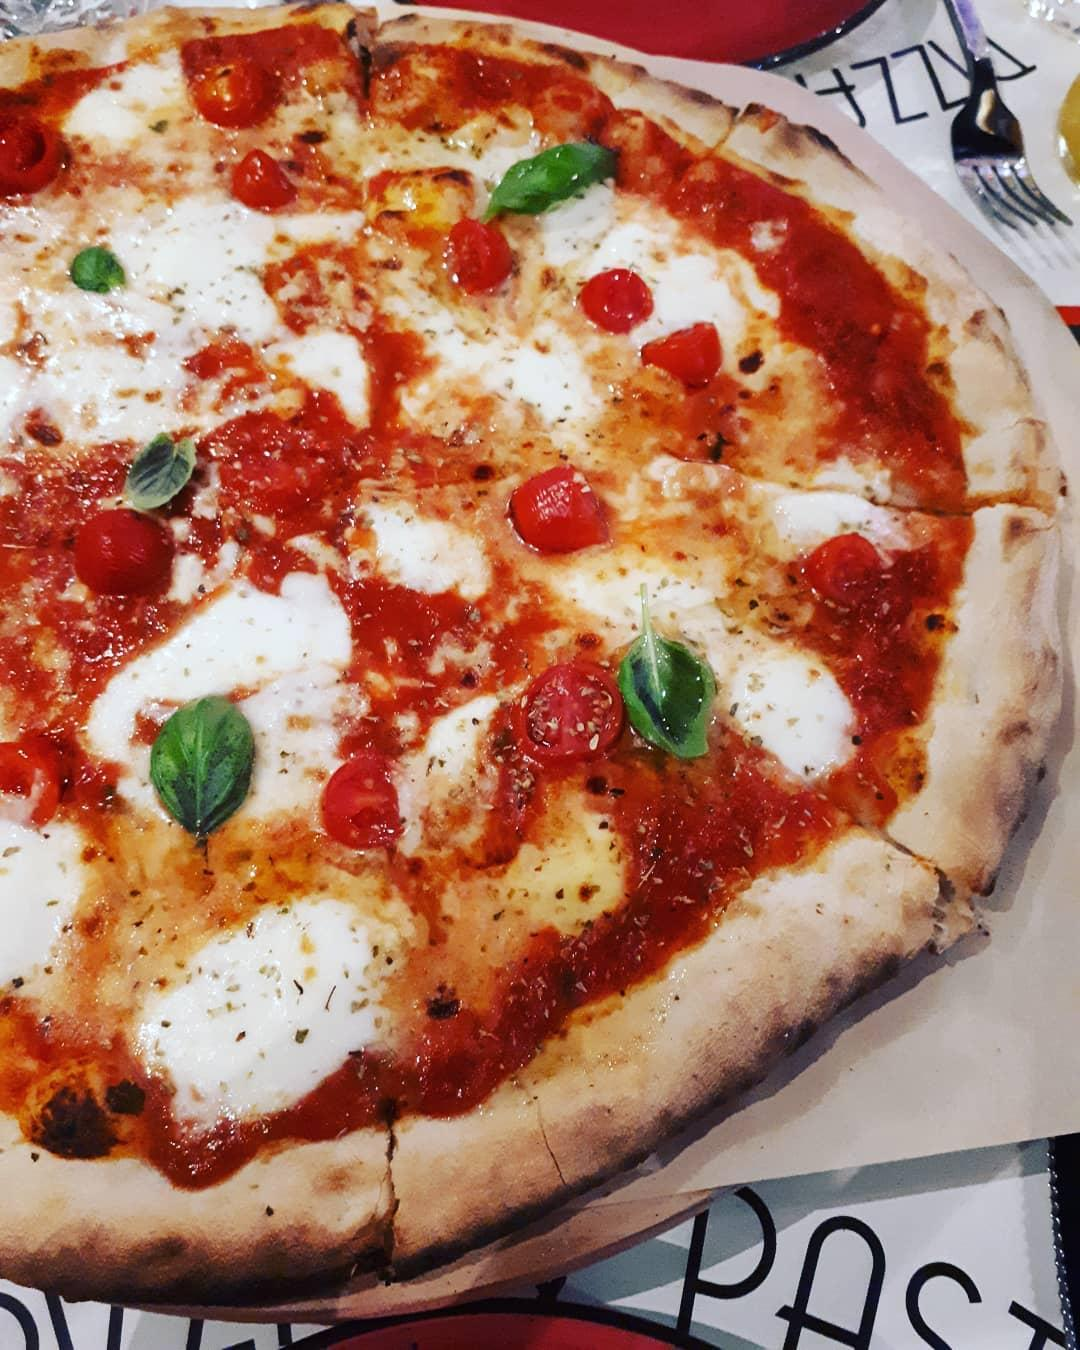Basil: (611, 572, 731, 771), (147, 684, 258, 854), (476, 129, 630, 225), (117, 428, 208, 515), (65, 233, 134, 300)
Pizza: (0, 0, 1066, 1298)
Tomatoes: (507, 456, 626, 573), (511, 658, 630, 763), (67, 500, 183, 603), (312, 747, 417, 857), (801, 518, 908, 625), (182, 44, 292, 134), (638, 299, 743, 391), (0, 706, 71, 830), (572, 256, 663, 339), (0, 101, 72, 202), (438, 212, 521, 290), (222, 137, 303, 216)
